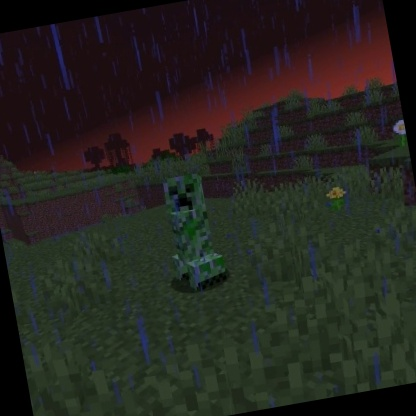creeper: (154, 168, 235, 299)
